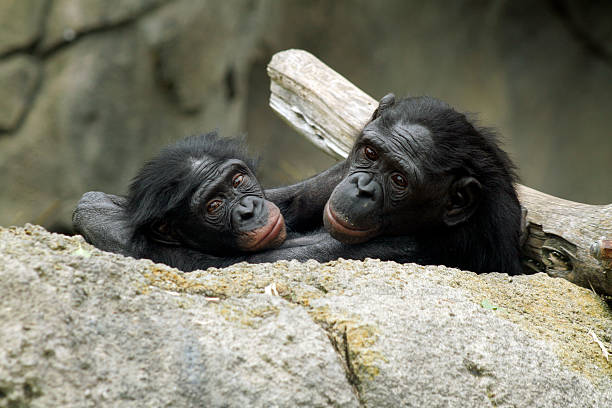chimpanzee: (321, 68, 497, 260), (112, 122, 300, 280)
